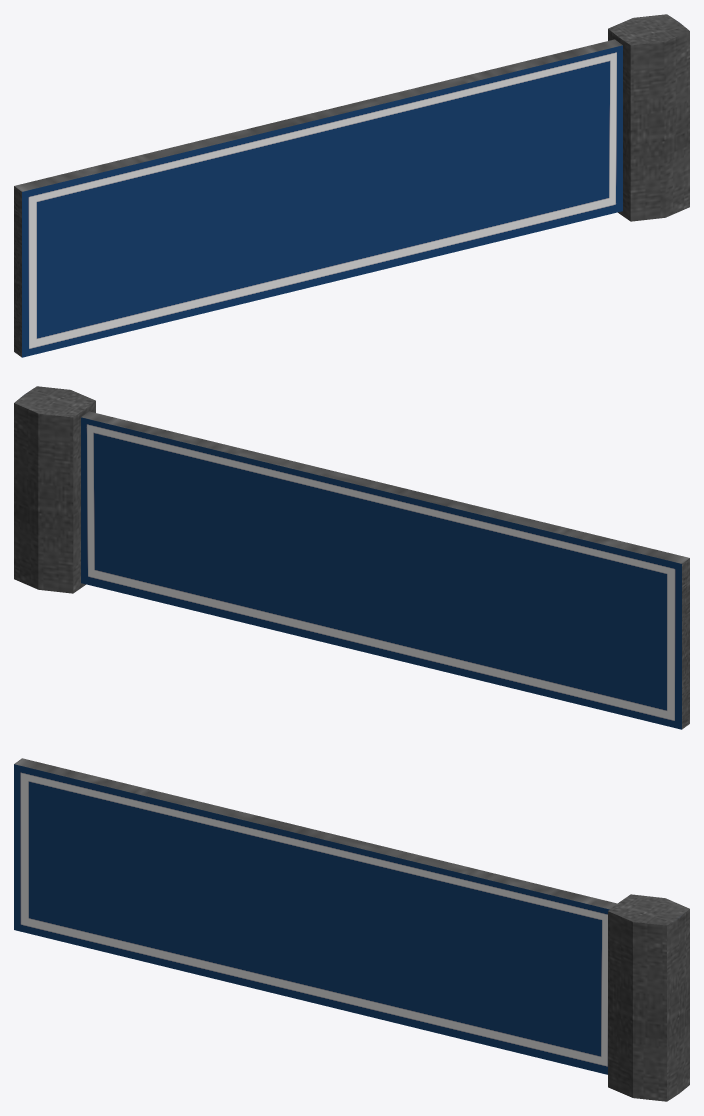
Rendered from VejNavneSkilte1Left.fbx.
The picture shows the model from 3 angles, top to bottom: view 1: azimuth 30°, elevation 25°; view 2: azimuth 150°, elevation 25°; view 3: azimuth 330°, elevation 25°; orthographic projection.
Parts seen in each view (by area): view 1: Left; view 2: Left; view 3: Left.
Boxes of the visible parts, box(x1,y1,x2,y2) form: Left: box(14, 14, 689, 357); Left: box(14, 386, 689, 729); Left: box(14, 758, 689, 1101).
Size of what is drawn, in the model's own units: 104 by 26.56 by 8.86.
